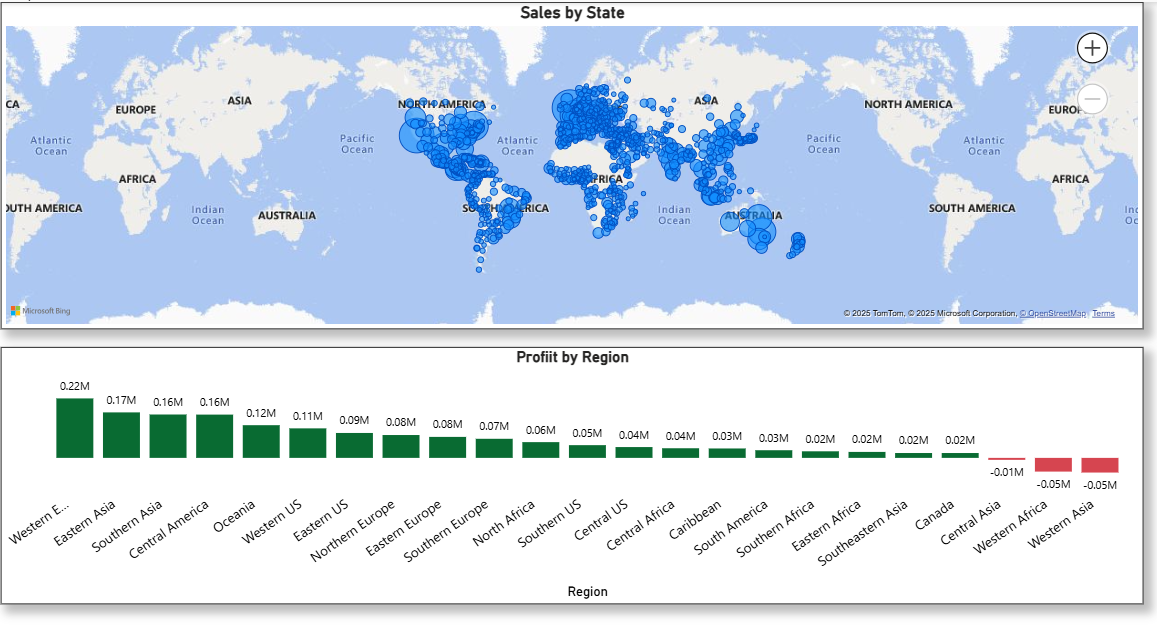

What the dashboard file says about the page in this screenshot:
{"tool":"powerbi","page":{"name":"Regional & Market Performance","canvas":[1280,720],"ordinal":5},"visuals":[{"type":"map","title":"Sales by State","fields":{"Category":["DimGeography.State"],"Size":["Measures (2).Total_Sales"]},"box":[9.6,0,1254.2,359.5],"z":0},{"type":"clusteredColumnChart","title":"Profiit by Region","fields":{"Category":["FactSales.Region"],"Y":["Measures (2).Total_Profiit"]},"box":[9.6,378.7,1254.2,282.7],"z":1000}]}

Visuals, with their boxes in screenshot pixels (x1, y1, x2, y2), scaled from the page's 1280x720 canvas onto the 1157x637 screenshot:
"Sales by State" map: x1=9 y1=0 x2=1142 y2=318
"Profiit by Region" clusteredColumnChart: x1=9 y1=335 x2=1142 y2=585
